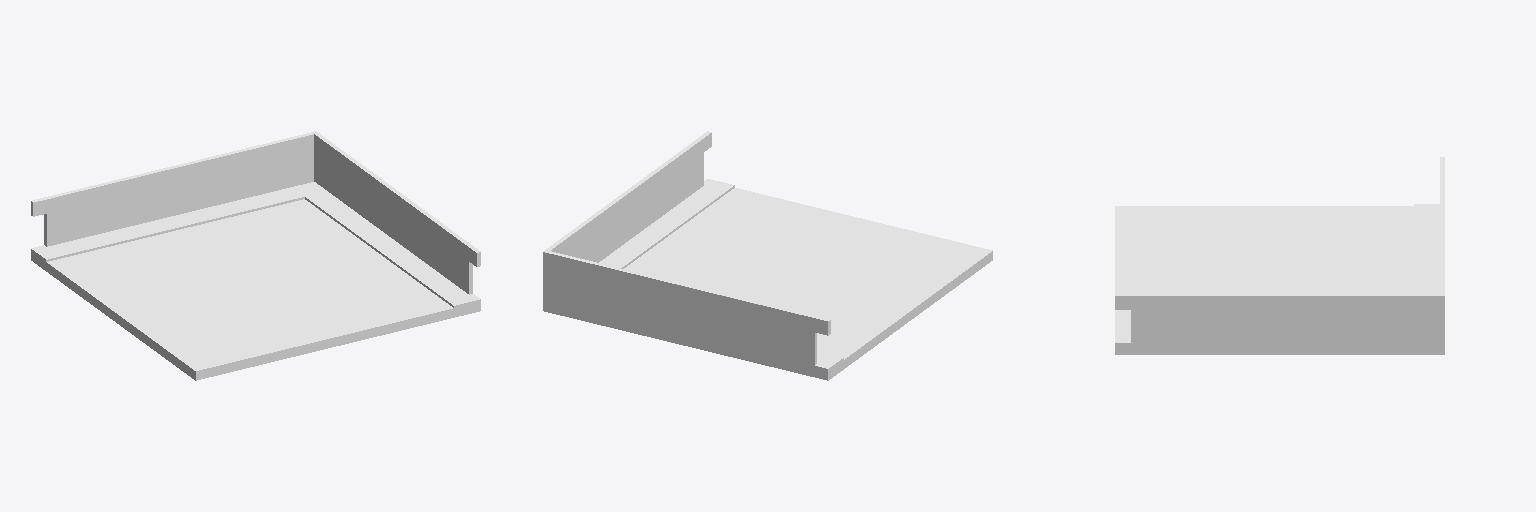
The model's file is monu1-2.obj.
3 views of the same model, side by side, from view 1: azimuth 30°, elevation 25°; view 2: azimuth 150°, elevation 25°; view 3: azimuth 270°, elevation 25° (orthographic).
Visible parts, largest first — view 1: object 1; view 2: object 1; view 3: object 1.
Part boxes in pixels (bbox=[...]): object 1: bbox=[31, 131, 480, 380]; object 1: bbox=[543, 131, 992, 380]; object 1: bbox=[1115, 157, 1444, 354].
Size of the model in its own units: 12.6 by 2.5 by 12.6.